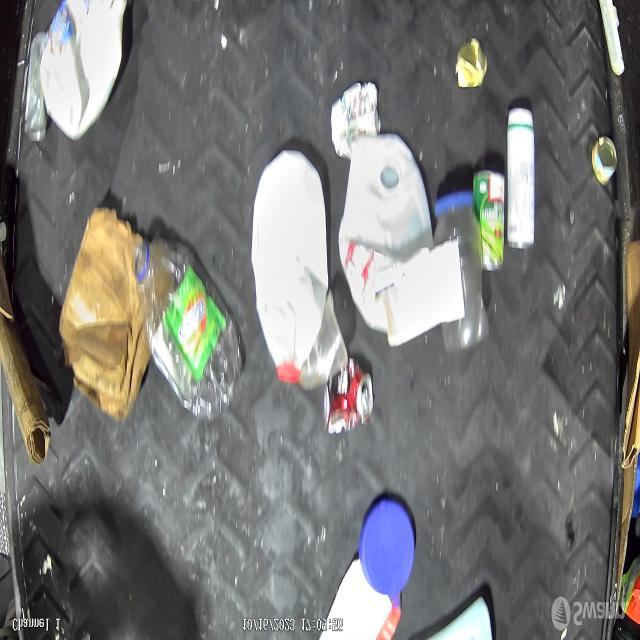can: (322, 371, 370, 442)
milk_jug: (343, 140, 428, 334), (256, 148, 325, 379)
plastic_bottle: (132, 251, 238, 417), (589, 134, 617, 186)
